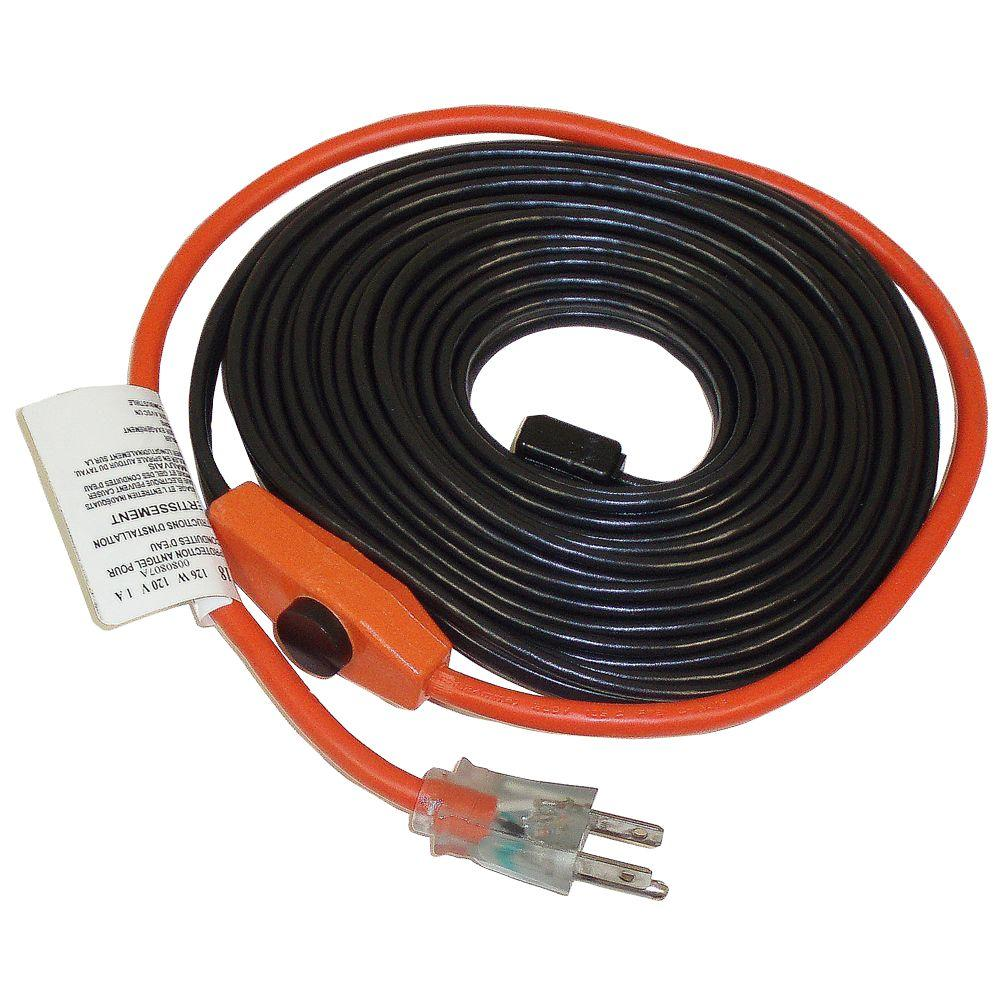Nonrec_Tangler: (18, 65, 968, 920)
